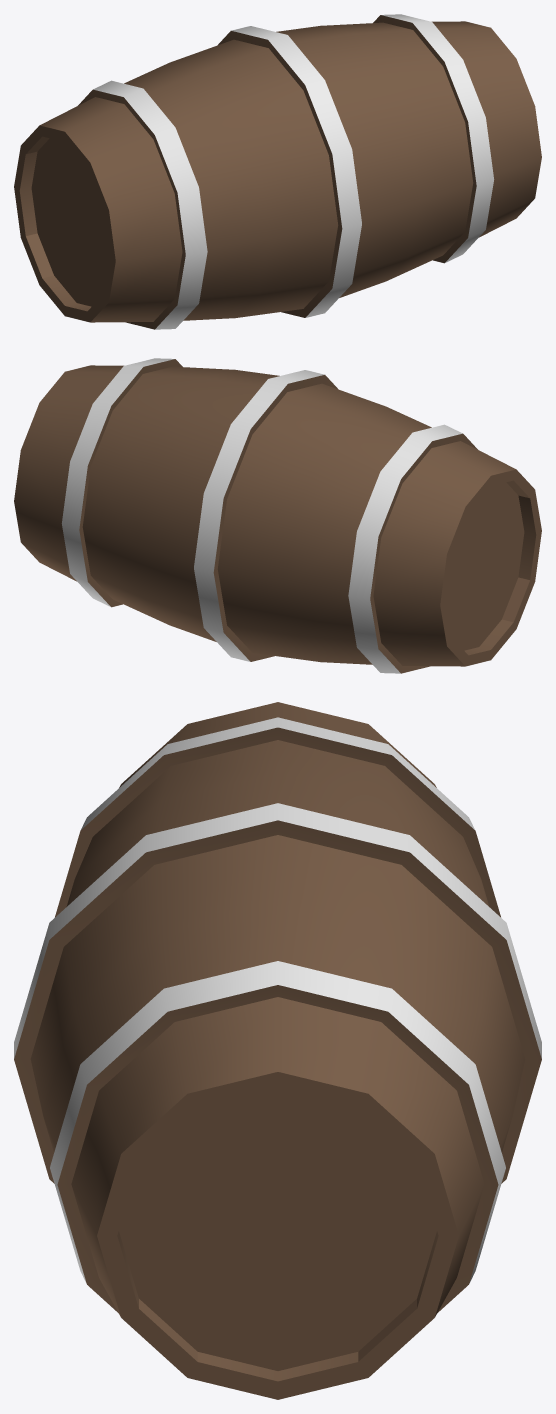
The model's file is Barell.fbx.
3 renders of one model, top to bottom at view 1: azimuth 30°, elevation 25°; view 2: azimuth 150°, elevation 25°; view 3: azimuth 270°, elevation 25°, orthographic. The views are drawn at different scales.
Parts seen in each view (by area): view 1: Circle.002; view 2: Circle.002; view 3: Circle.002.
Boxes of the visible parts, x1,y1,x2,y2 form: Circle.002: (14,14,541,329); Circle.002: (14,358,541,673); Circle.002: (14,702,541,1399).
Bounding box in the file's own units: 360 × 217 × 217.
